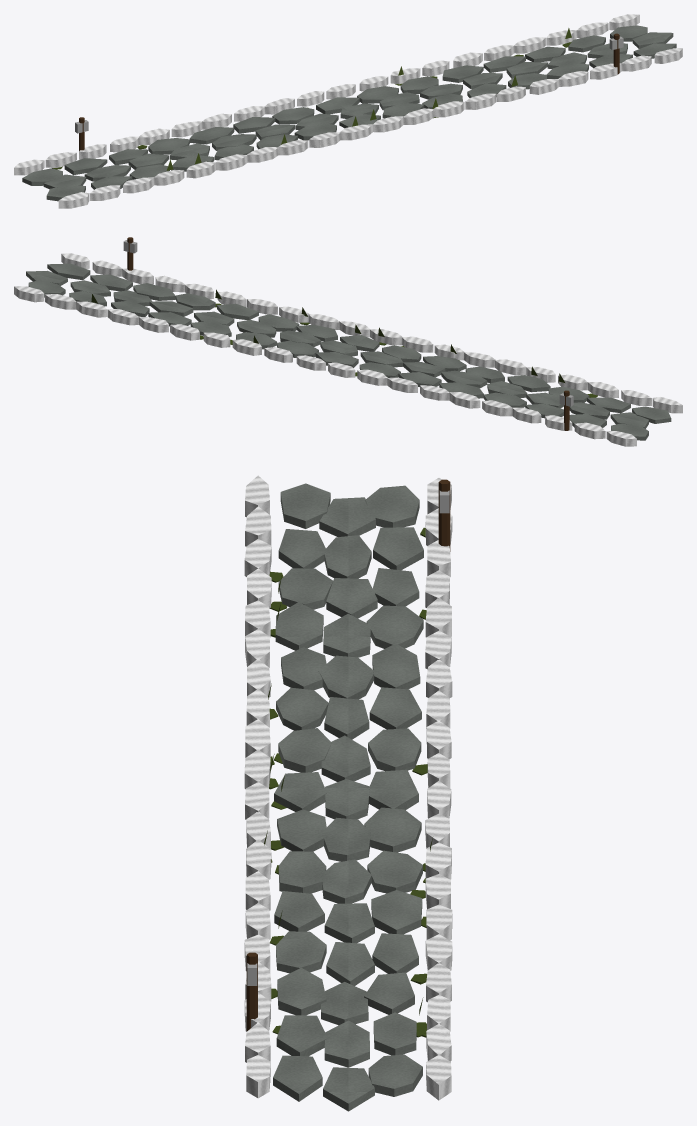
The model's file is Road.glb.
3 views of the same model, one above another, from view 1: azimuth 30°, elevation 25°; view 2: azimuth 150°, elevation 25°; view 3: azimuth 270°, elevation 25° (orthographic). The views are drawn at different scales.
Visible parts, largest first — view 1: Road; view 2: Road; view 3: Road.
Boxes of the visible parts, bbox=[...] form: Road: bbox=[14, 14, 682, 208]; Road: bbox=[14, 237, 682, 446]; Road: bbox=[244, 475, 452, 1111].
Bounding box in the file's own units: 1.02 × 0.061 × 0.145.
Materials: 5 (5 with a texture image).
